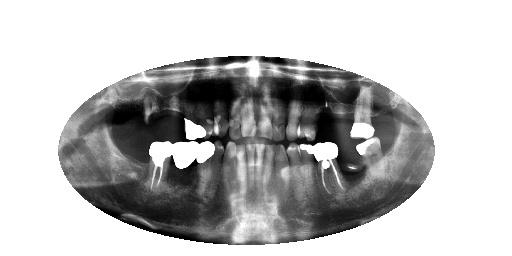fractura: (173, 141, 198, 194), (350, 96, 376, 142), (196, 140, 217, 188), (183, 105, 207, 141)
otra: (148, 137, 174, 196), (316, 141, 342, 197)
